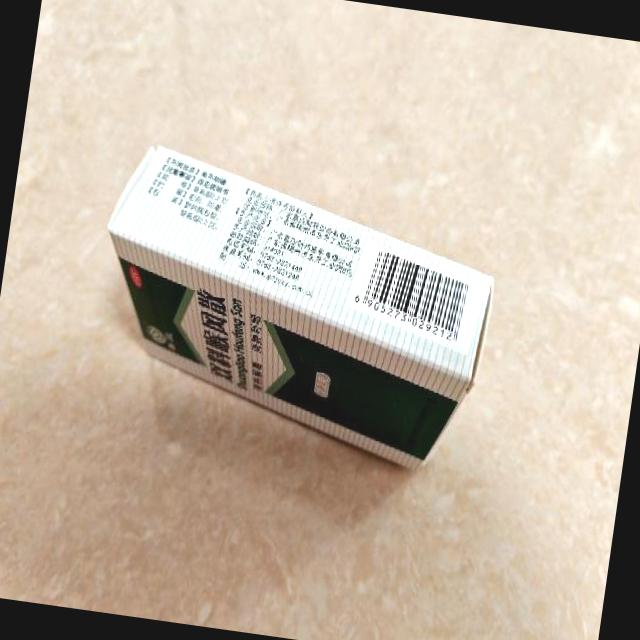box: (80, 140, 508, 480)
